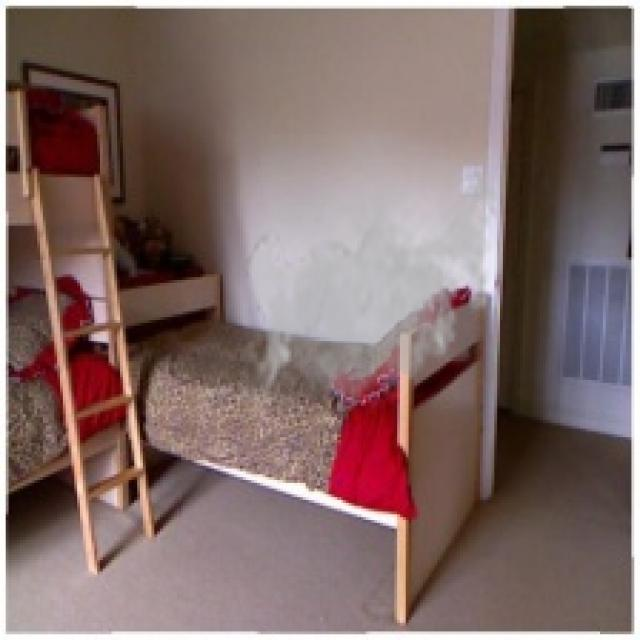smoke: (240, 134, 506, 414)
